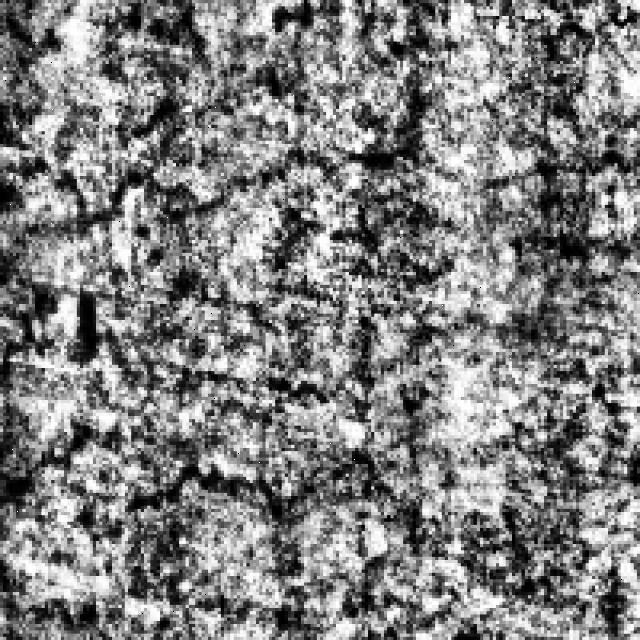Pitted_Surface: (3, 147, 640, 314), (3, 320, 364, 538), (3, 0, 317, 138)
